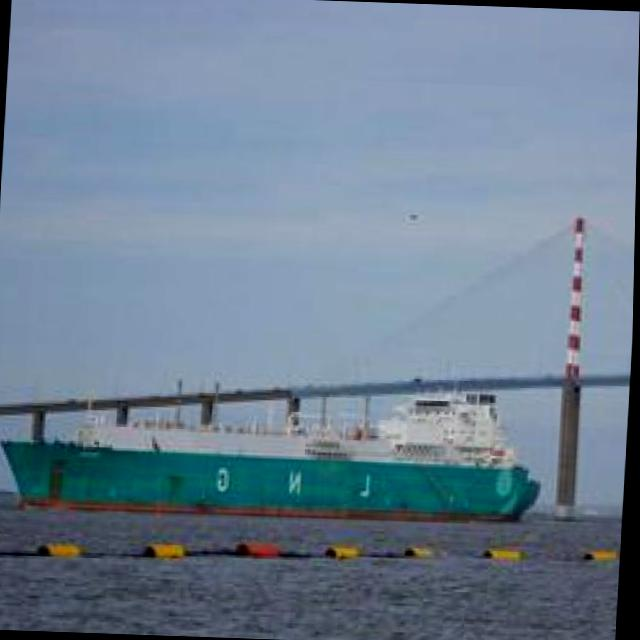ship2: (1, 391, 539, 522)
